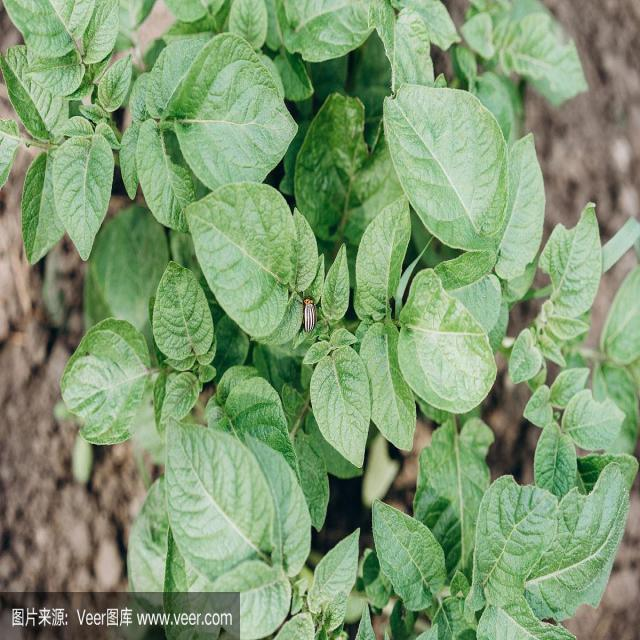ShuCaiHuaBanChong-Grown-: (301, 284, 324, 338)
